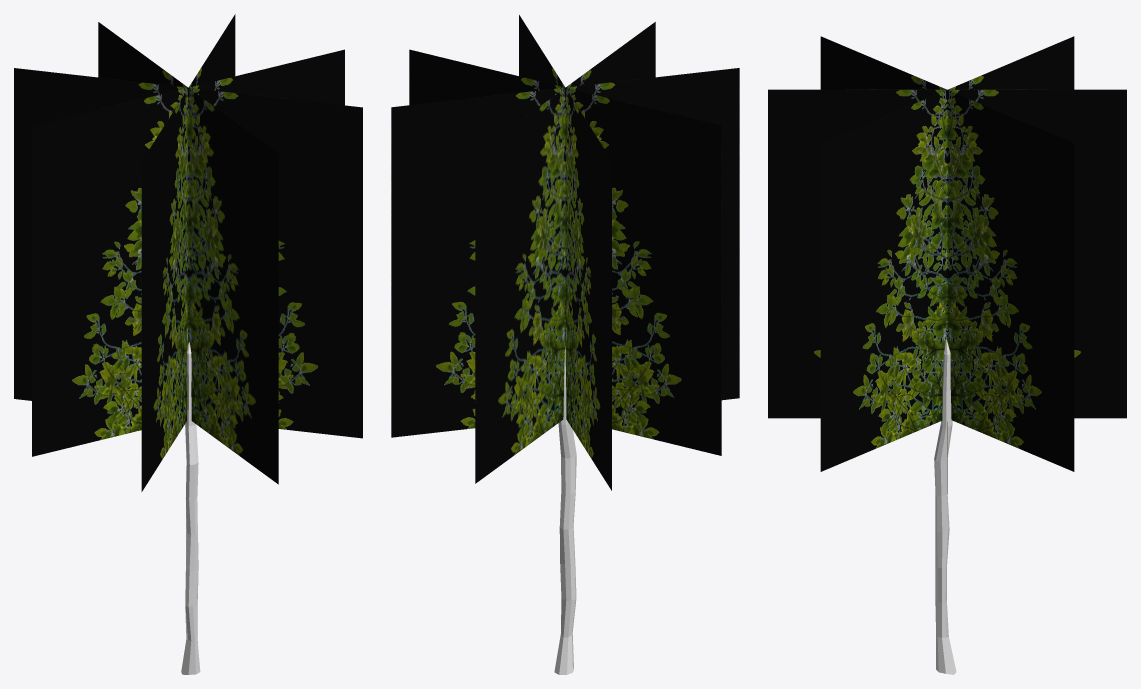
Rendered from baum.glb.
The picture shows the model from 3 angles, left to right: view 1: azimuth 30°, elevation 25°; view 2: azimuth 150°, elevation 25°; view 3: azimuth 270°, elevation 25°; orthographic projection.
Parts seen in each view (by area): view 1: Cube; view 2: Cube; view 3: Cube.
Part boxes in pixels (x1,y1,x2,y2): Cube: (14,14,362,674); Cube: (391,15,739,674); Cube: (768,36,1126,674).
Size of the model in its own units: 4.69 by 8.38 by 4.69.
Materials: 2 (1 with a texture image).
